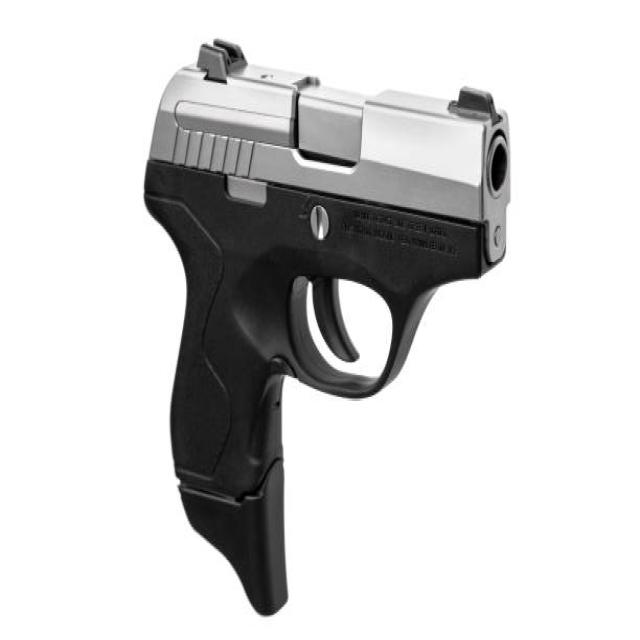pistol: (145, 30, 523, 624)
